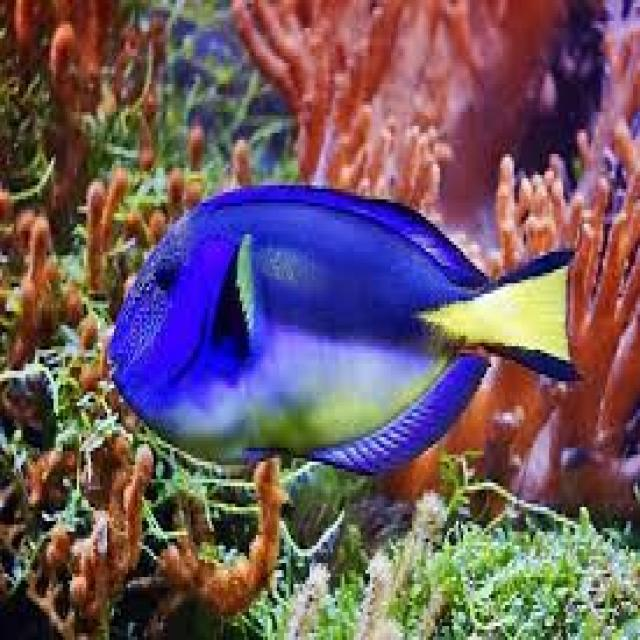BlueTang: (98, 147, 592, 504)
